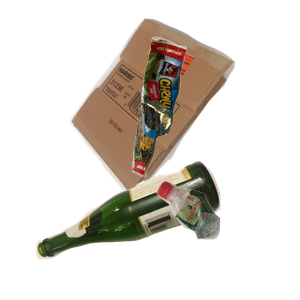cardboard: (67, 16, 295, 196)
glass: (33, 158, 246, 300)
plastic: (153, 178, 300, 300)
trash: (130, 34, 300, 203)
